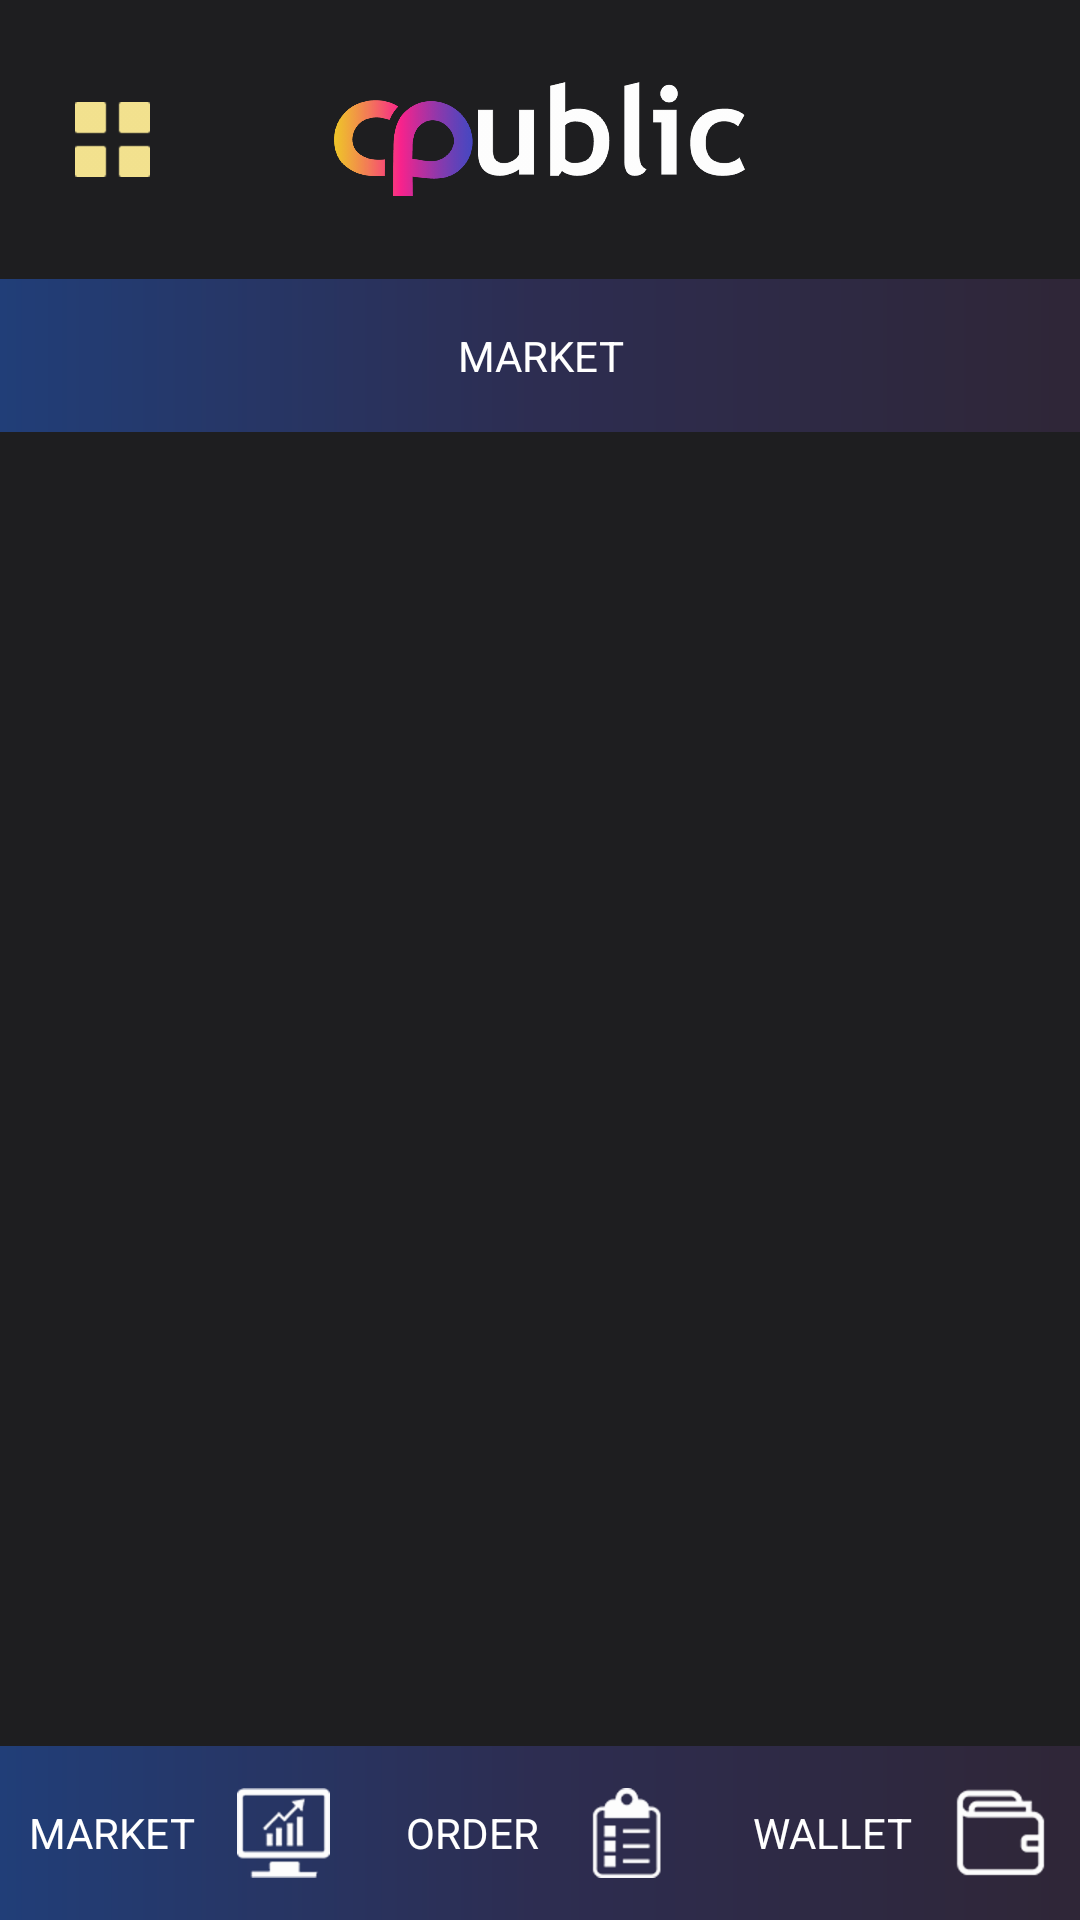

Screen size 1080w x 1920h. Icon name, then its center in pixels as (x=x, y=y):
menu: (x=112, y=139)
